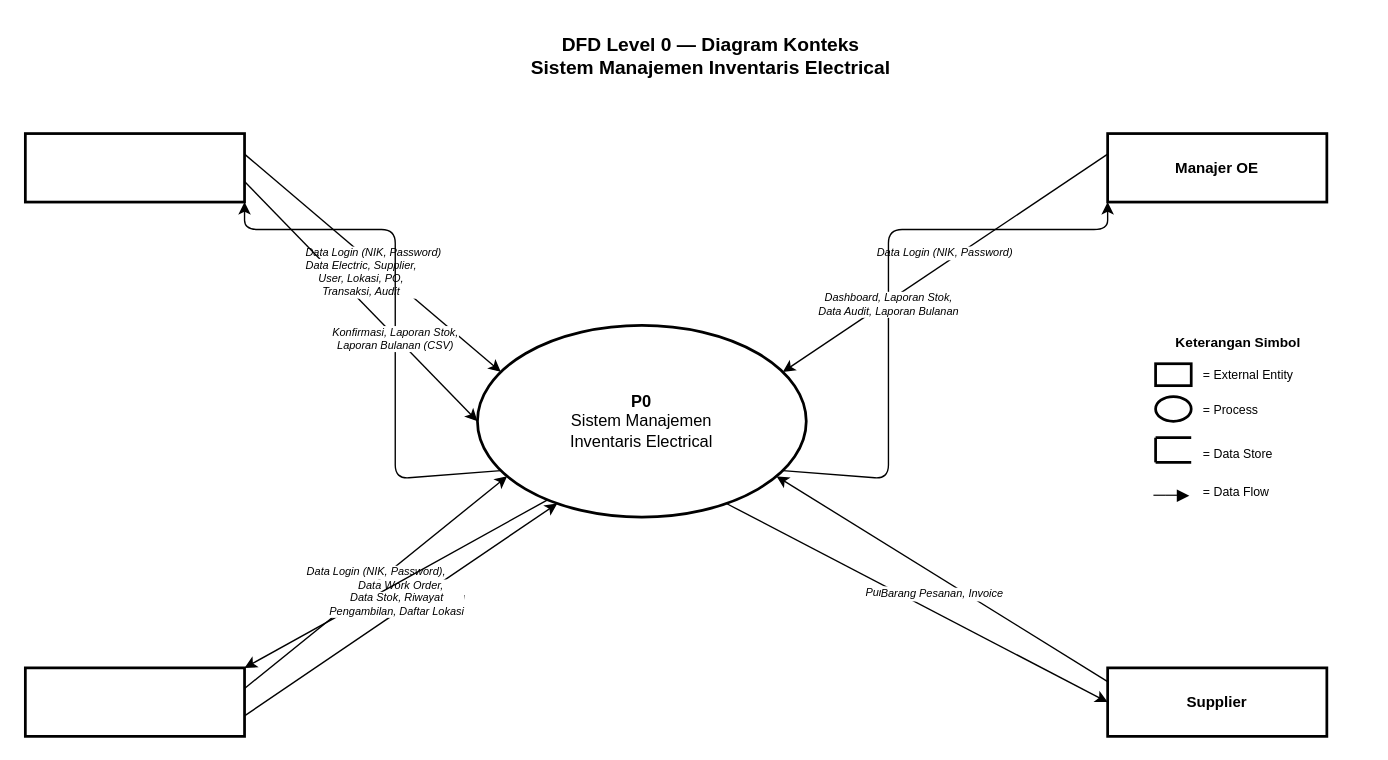
Some shapes in this 1388 by 760 pixel diagram are drawn without their labels. The centre of each missing label's shape, as x and y in pixels:
"Admin Gudang" belongs at (x=134, y=167).
"Teknisi" belongs at (x=134, y=701).
